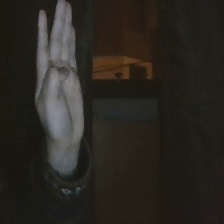B: (26, 1, 97, 148)
